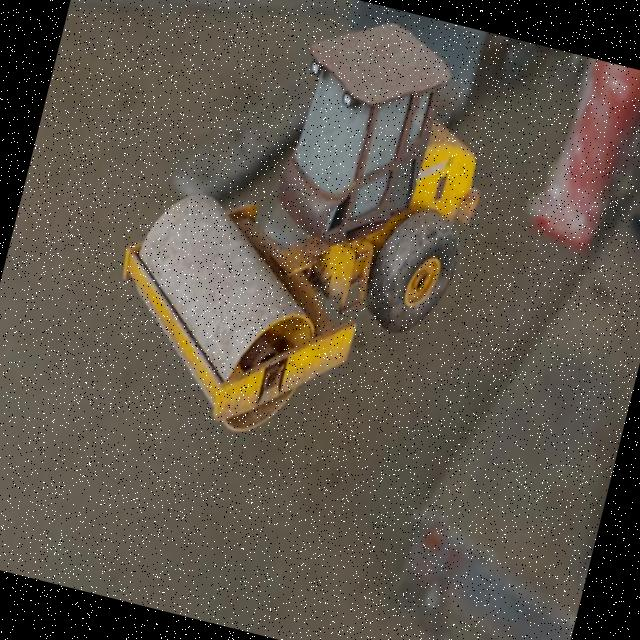Roller: (89, 0, 515, 474)
